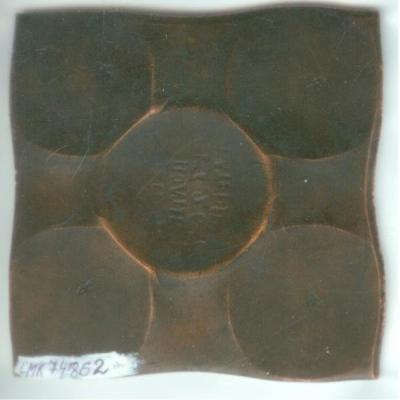numismatics: (104, 108, 268, 271)
